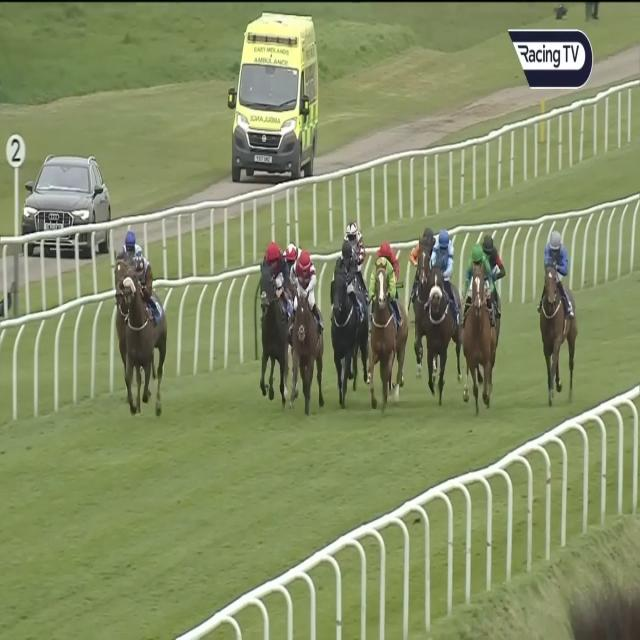horses-racing: (463, 250, 507, 403), (542, 232, 578, 400), (122, 255, 160, 406), (247, 241, 284, 383), (330, 245, 362, 404), (367, 259, 398, 416), (426, 234, 455, 395), (294, 244, 316, 402), (112, 231, 140, 352), (414, 228, 433, 372), (337, 217, 365, 278), (278, 238, 304, 299), (482, 226, 502, 296), (379, 238, 399, 285)
